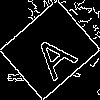A: (24, 25, 79, 81)
